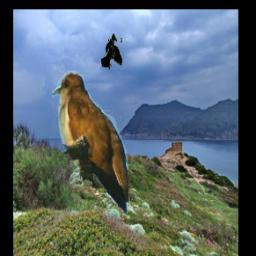Crow: (101, 34, 122, 70)
Cuckoo: (53, 72, 129, 216)
